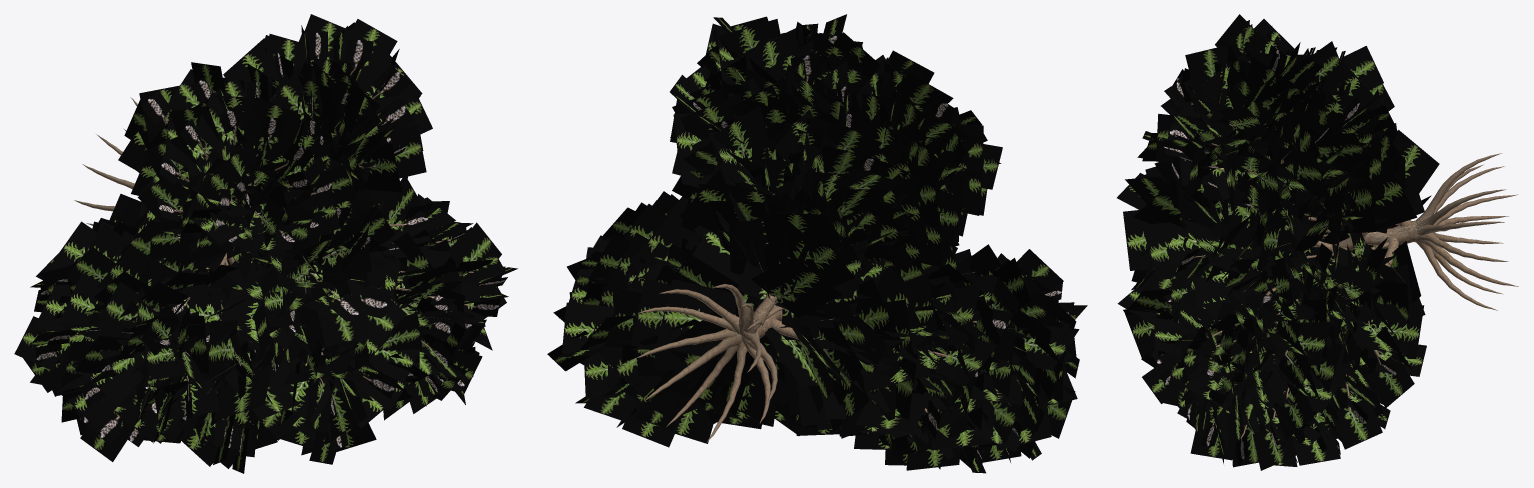
3 views of the same model, side by side, from view 1: azimuth 30°, elevation 25°; view 2: azimuth 150°, elevation 25°; view 3: azimuth 270°, elevation 25° (orthographic). The views are drawn at different scales.
Parts seen in each view (by area): view 1: OC57_1; view 2: OC57_1; view 3: OC57_1.
Boxes of the visible parts, box(x1,y1,x2,y2) form: OC57_1: box(14, 14, 517, 473); OC57_1: box(547, 14, 1087, 473); OC57_1: box(1117, 14, 1518, 470).
Size of the model in its own units: 0.884 by 0.7385 by 0.7006.
6 materials, 6 textured.
